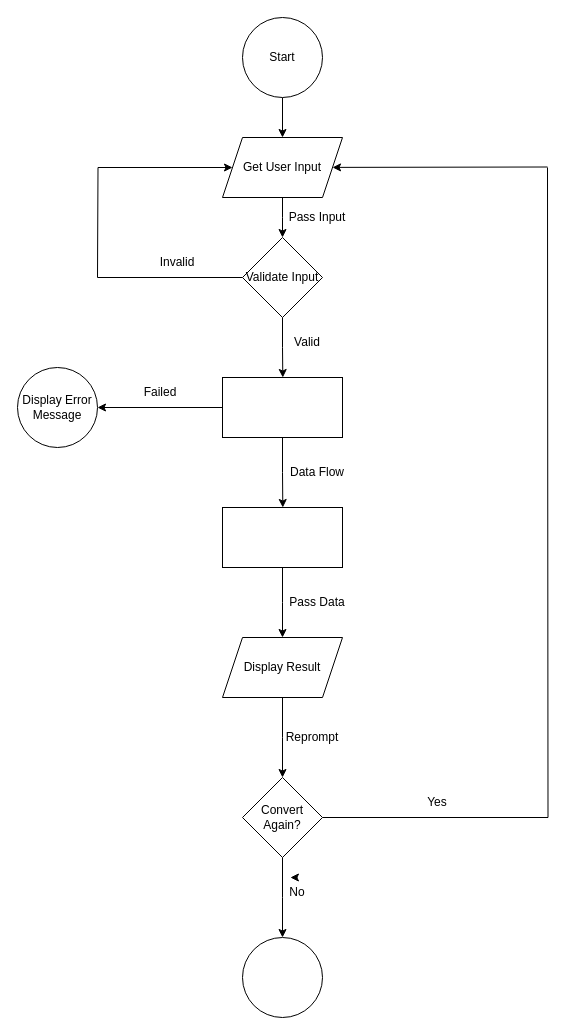
Image size: 573x1035. Some labels were removed from this diagram. Here are the shapes that lost their labels. From the top down, the centre of each, then its label:
At point (282, 407): "Currency API Request".
At point (282, 537): "Calculate Conversion".
At point (282, 977): "End".
